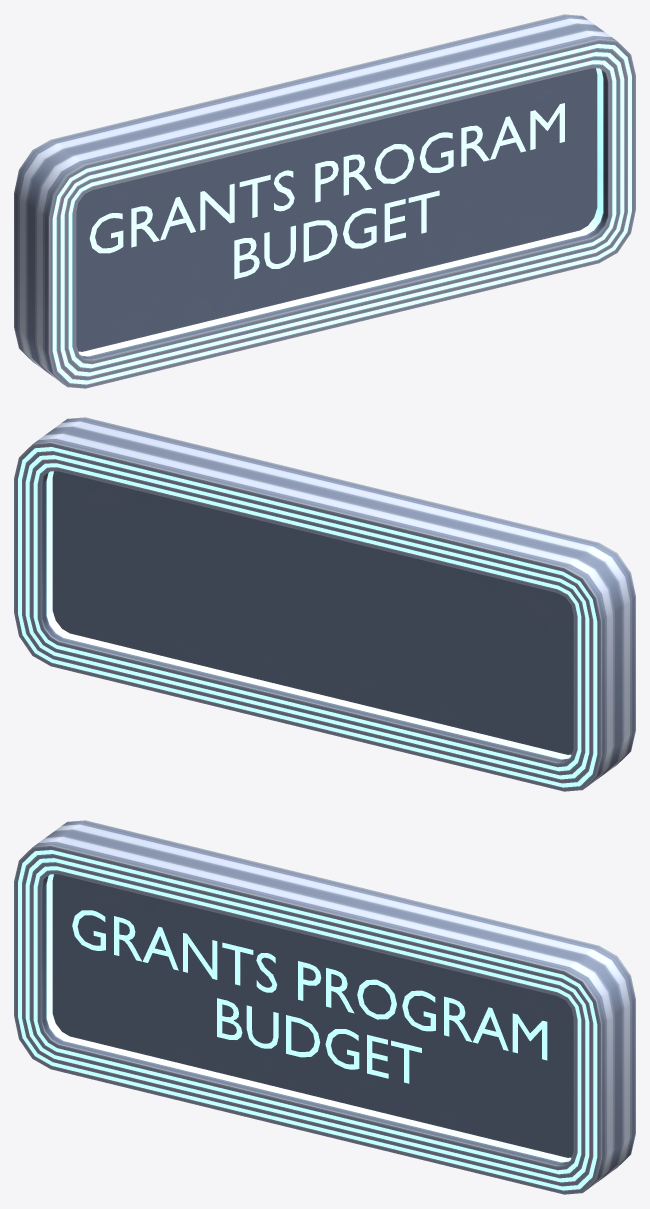
File: obj_budget.gltf
3 renders of one model, top to bottom at view 1: azimuth 30°, elevation 25°; view 2: azimuth 150°, elevation 25°; view 3: azimuth 330°, elevation 25°, orthographic.
Visible parts, largest first — view 1: obj_budget; view 2: obj_budget; view 3: obj_budget.
Boxes of the visible parts, left/top/right/bottom form: obj_budget: left=14, top=14, right=635, bottom=388; obj_budget: left=14, top=417, right=635, bottom=791; obj_budget: left=14, top=820, right=635, bottom=1194.
Size of what is drawn, in the model's own units: 4.27 by 1.55 by 0.439.
Materials: 2 (1 with a texture image).
